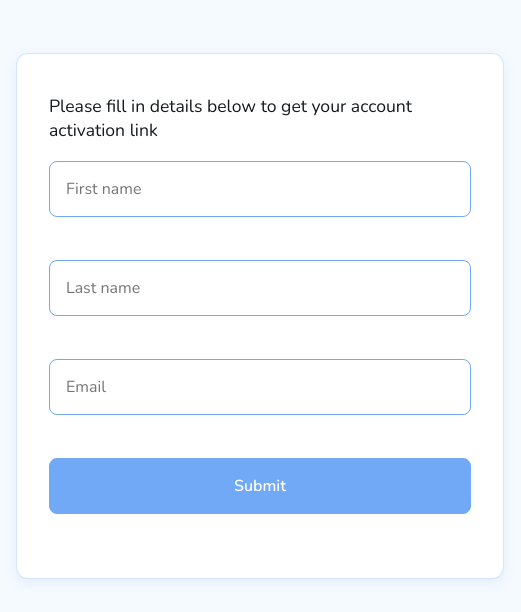
Test: RequestSignupForm › shows a generic error message on server failure
This screenshot has width=521, height=612.
Type "Anna" into the field with placeholder "First name" at (260, 189), box x1=49 y1=161 x2=471 y2=217
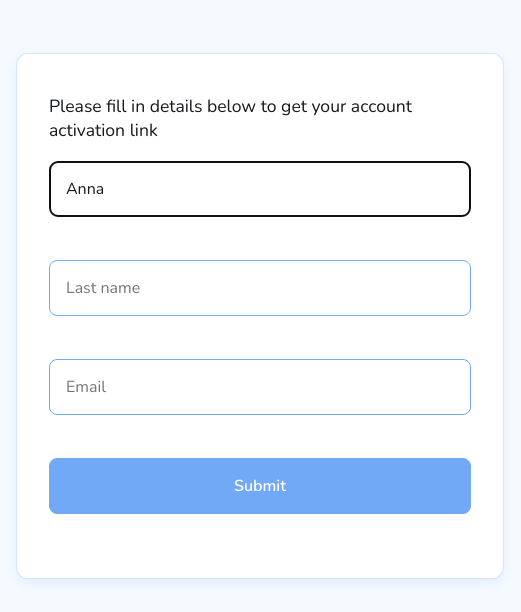
Type "Smith" into the field with placeholder "Last name" at (260, 288), box x1=49 y1=260 x2=471 y2=316
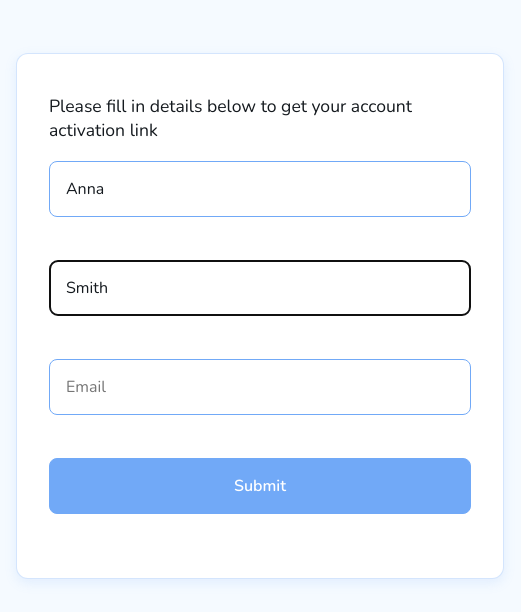
Type "anna.smith@example.com" into the field with placeholder "Email" at (260, 387), box x1=49 y1=359 x2=471 y2=415
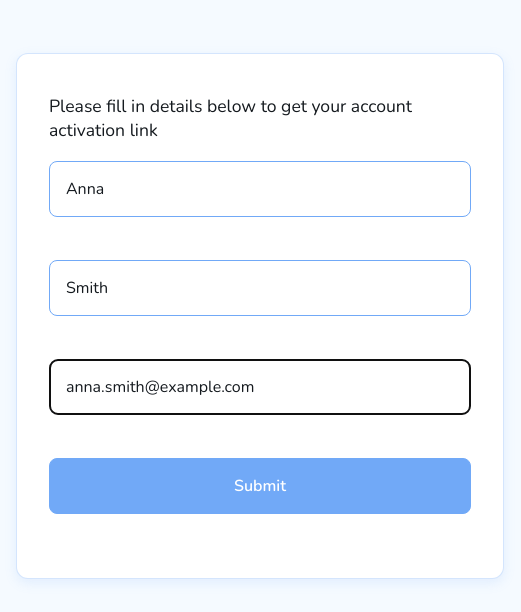
Click the button with test id "submitBtn" at (260, 486), box x1=49 y1=458 x2=471 y2=514
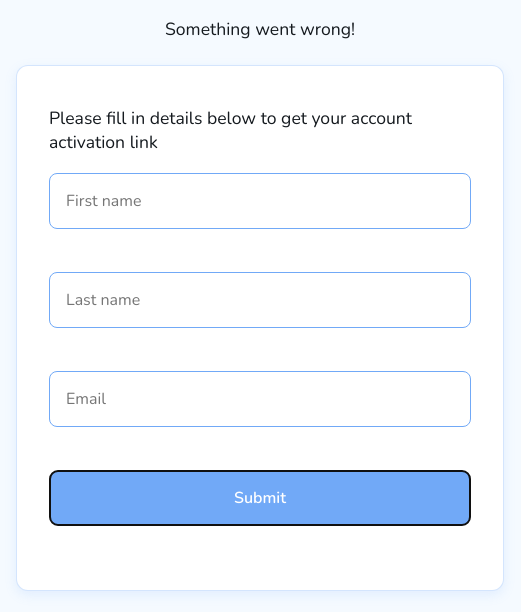
Expected: the text "Something went wrong!" is shown, x1=165 y1=17 x2=355 y2=41
